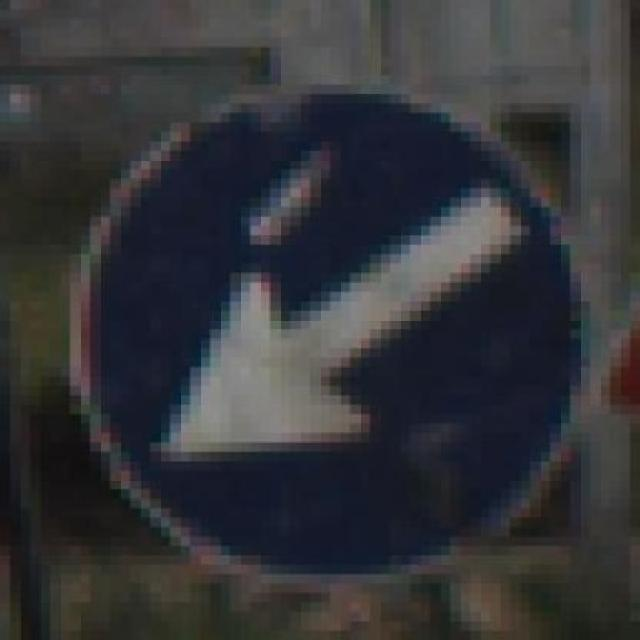Keep-Left: (49, 65, 600, 593)
